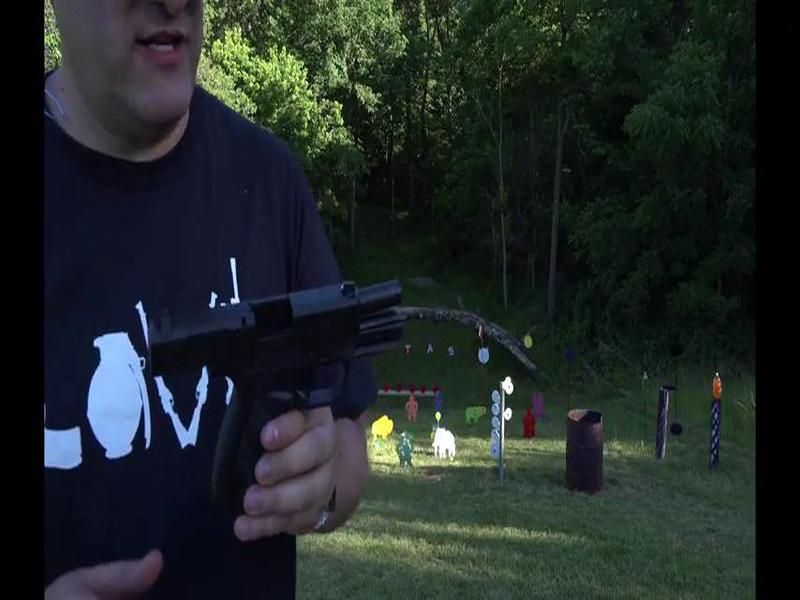Pistola: (133, 274, 430, 554)
